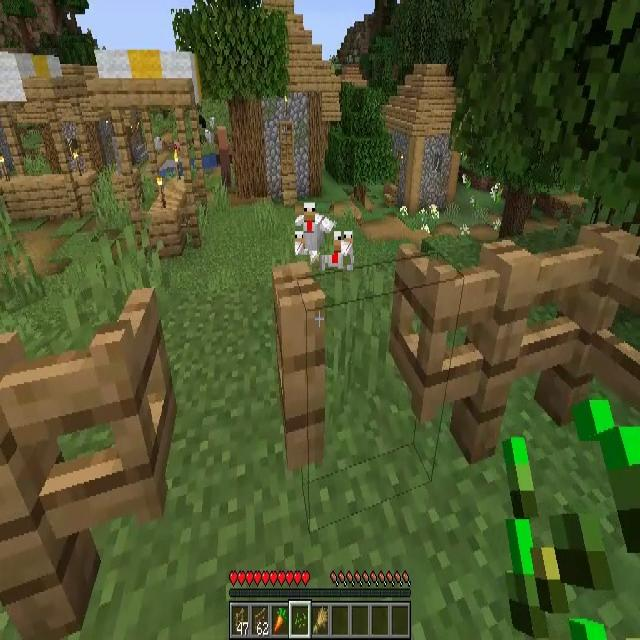duck: (295, 201, 334, 255), (325, 230, 353, 272)
sheep: (153, 137, 162, 152), (199, 114, 207, 128), (206, 130, 212, 143), (210, 116, 215, 130)
